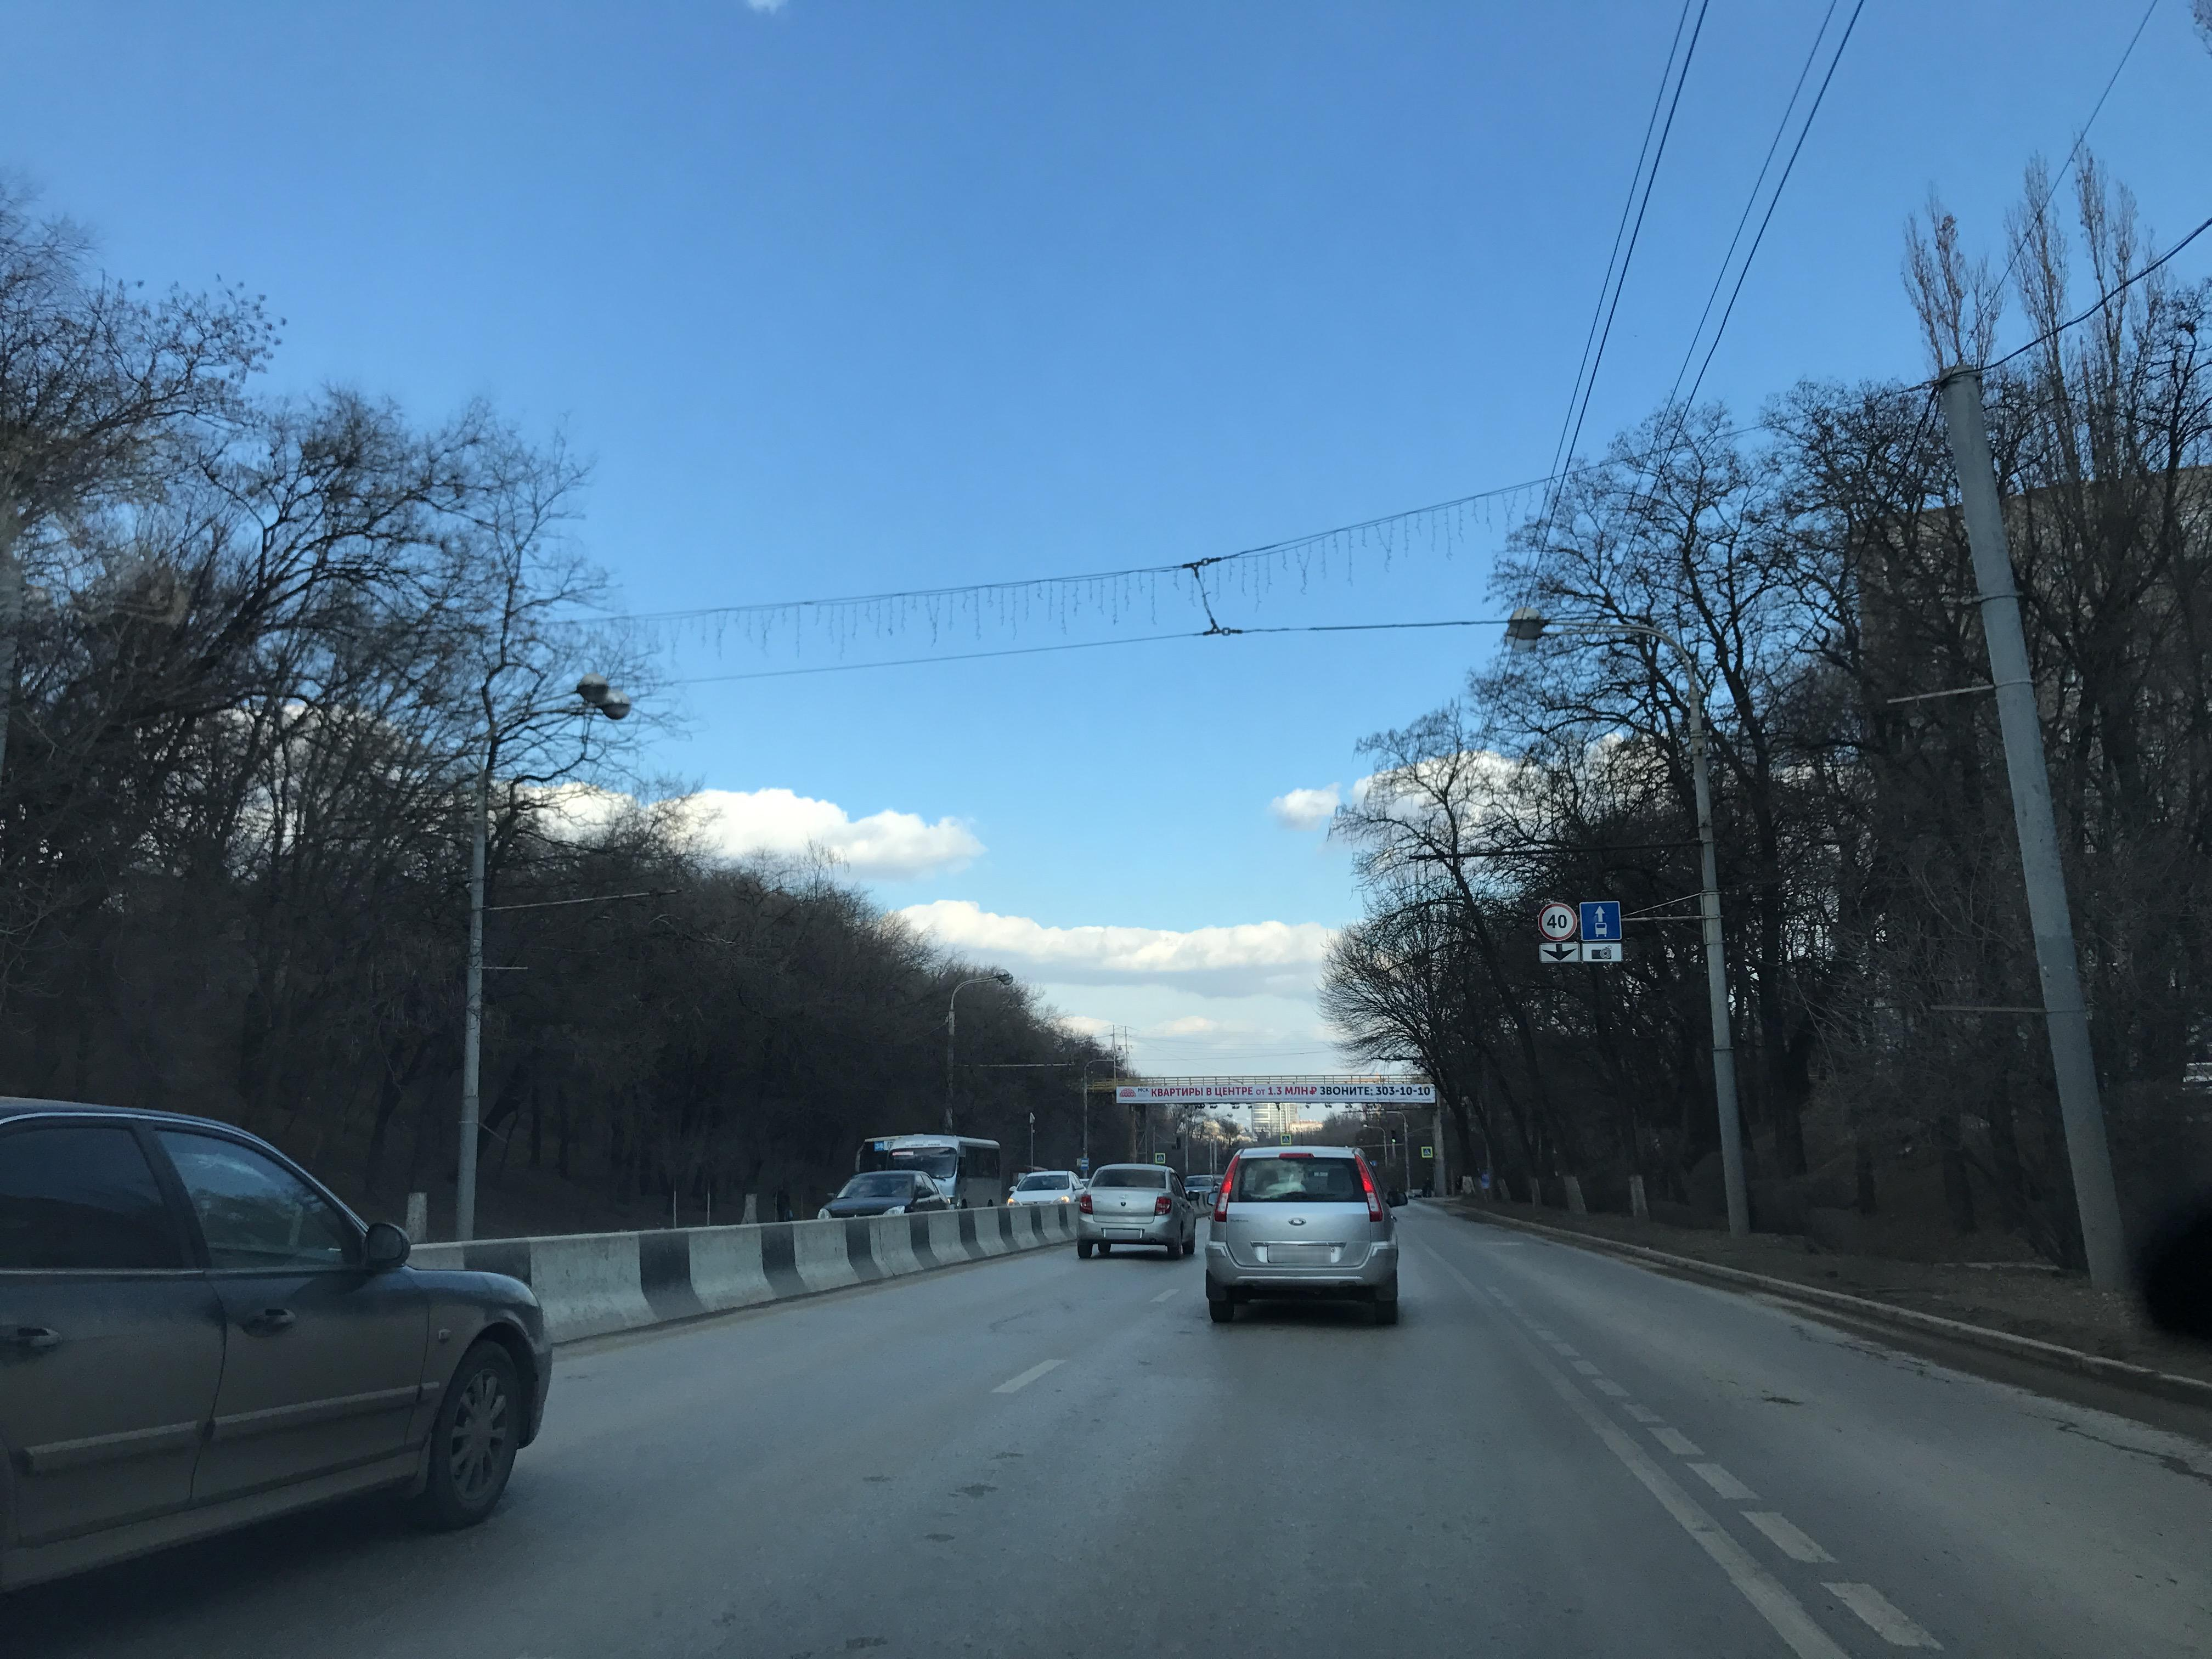vinyl banner: (1089, 1060, 1451, 1112)
